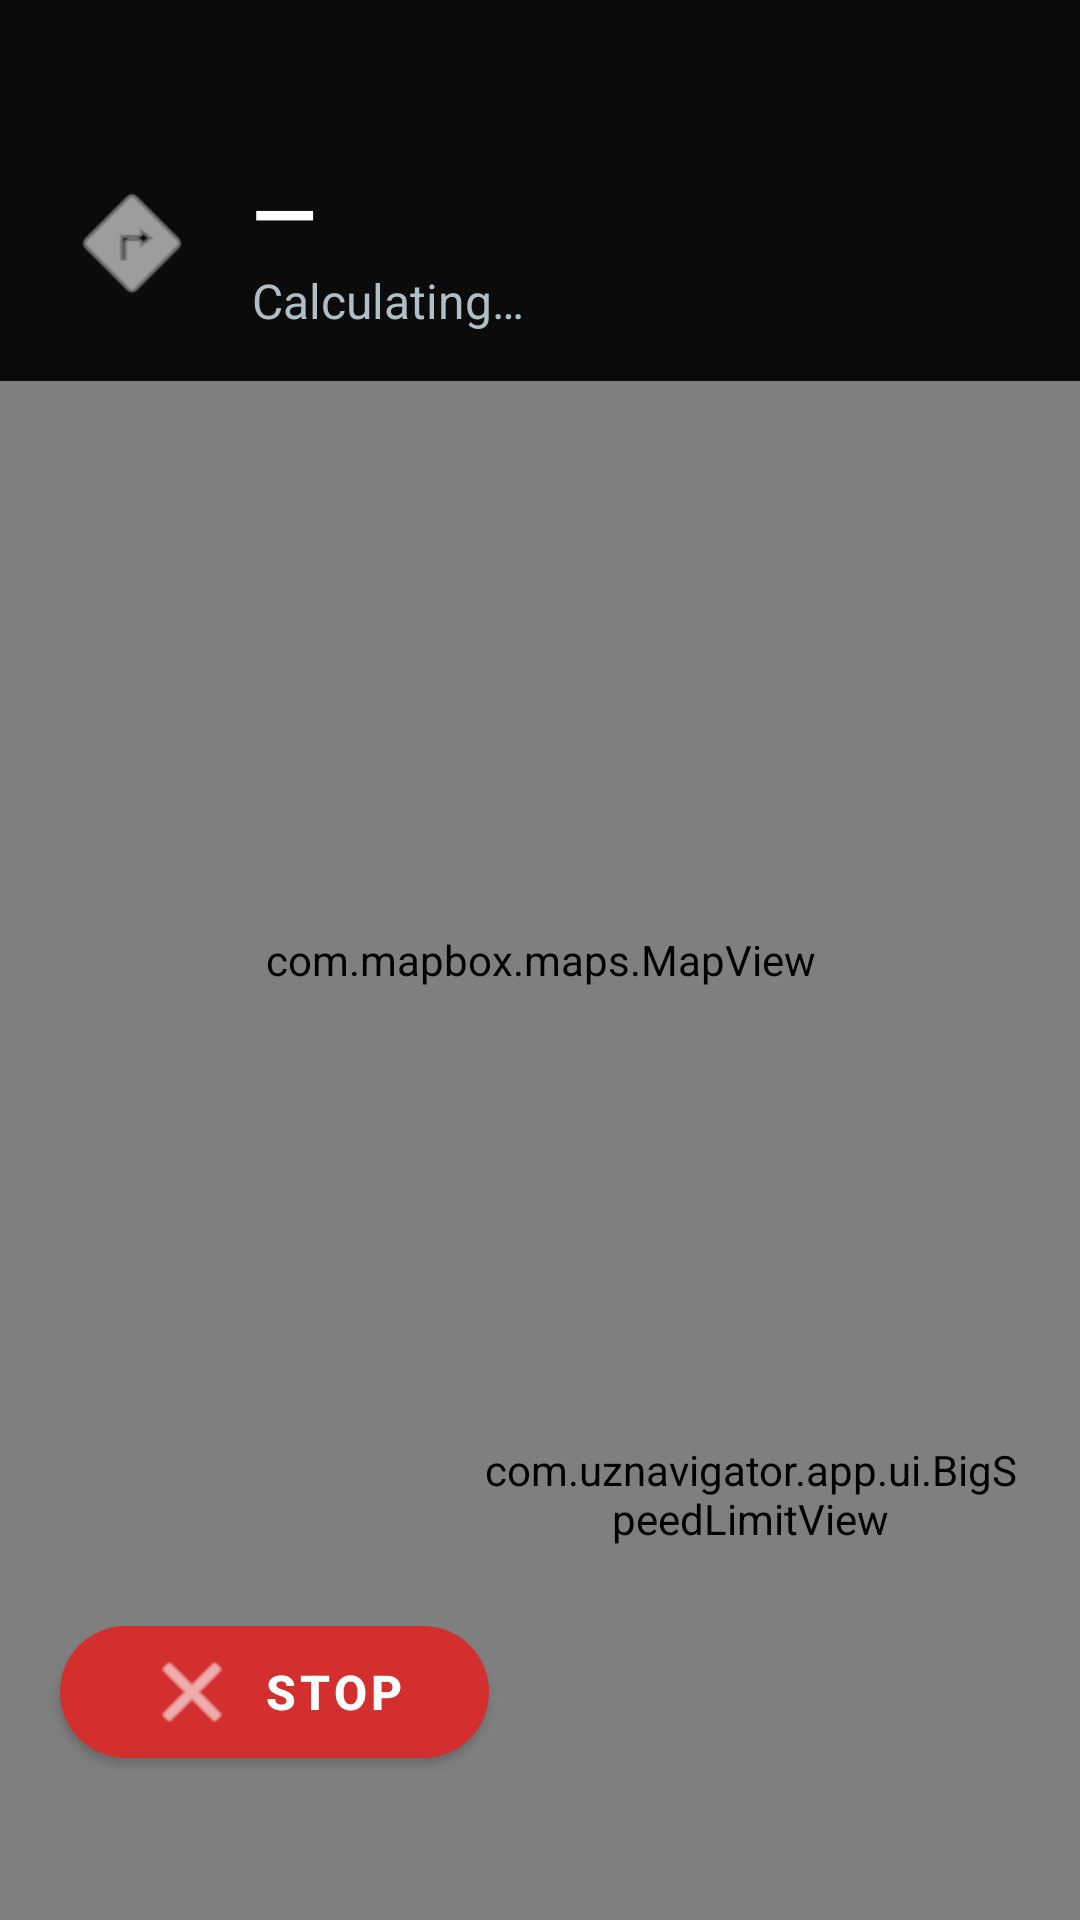

Point at icon controls on the screen. Image size 1080×1920, points as point (x, y).
directions: point (132, 243)
